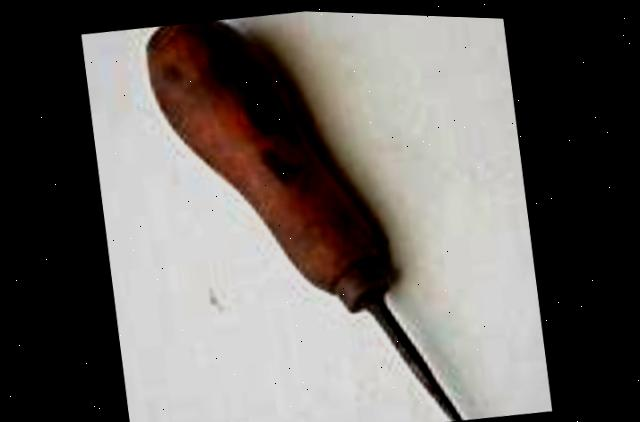ice pick: (136, 4, 477, 422)
